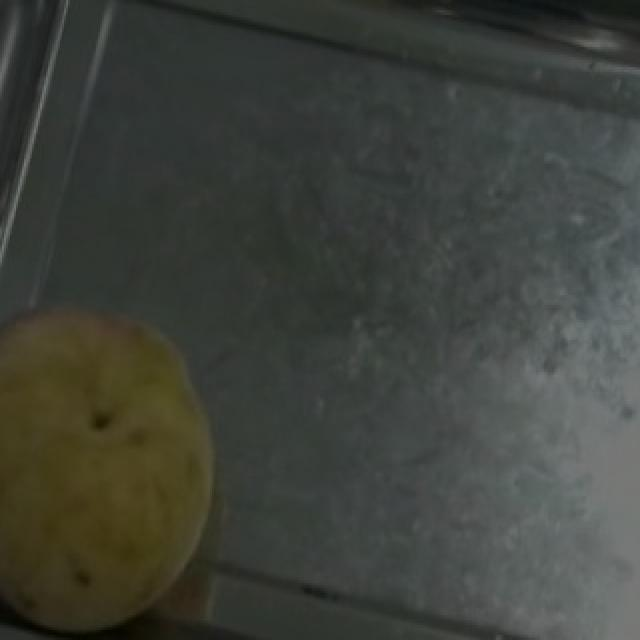Fruit: (0, 260, 264, 622)
